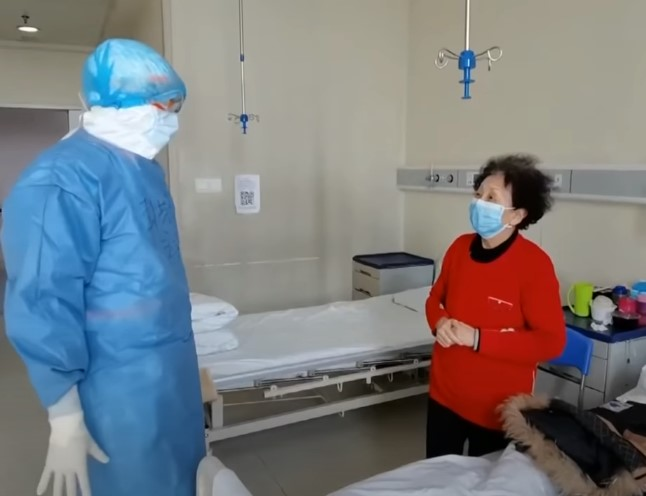face_with_mask: (78, 36, 189, 159), (468, 151, 550, 245)
